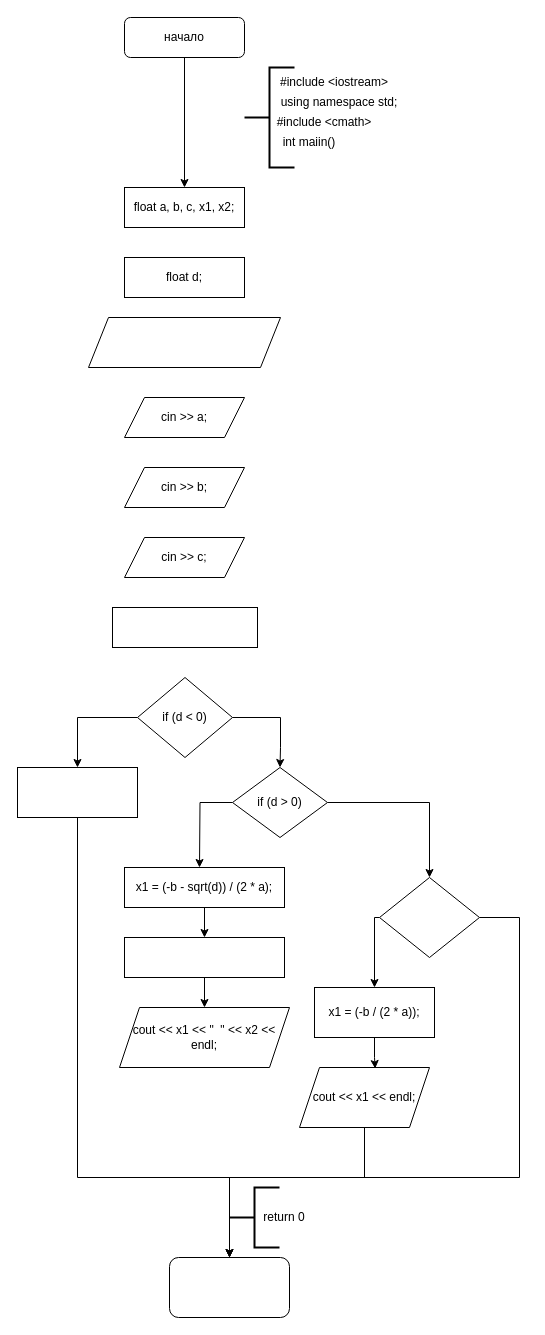
The diagram is 545 pixels wide and 1335 high, and some of its shapes have lost their labels. The centre of each missing label's shape, as x and y in pixels:
cout << "введите коэффициенты уравнения" << endl;: (184,342)
cout << "решения нет" << endl;: (77,792)
d = (b * b) - (4 * a * c);: (185,627)
if (d == 0): (429,917)
x2 = (-b + sqrt(d)) / (2 * a);: (204,957)
конец: (229,1287)
